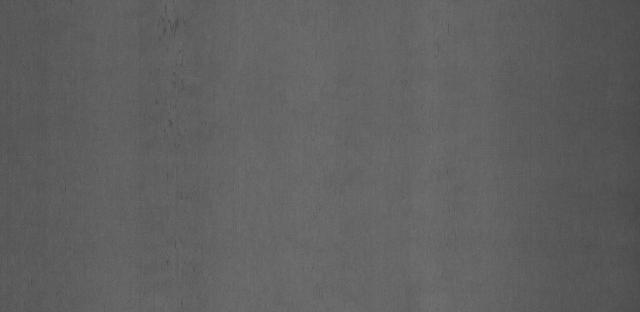silk_spot: (137, 5, 245, 181)
